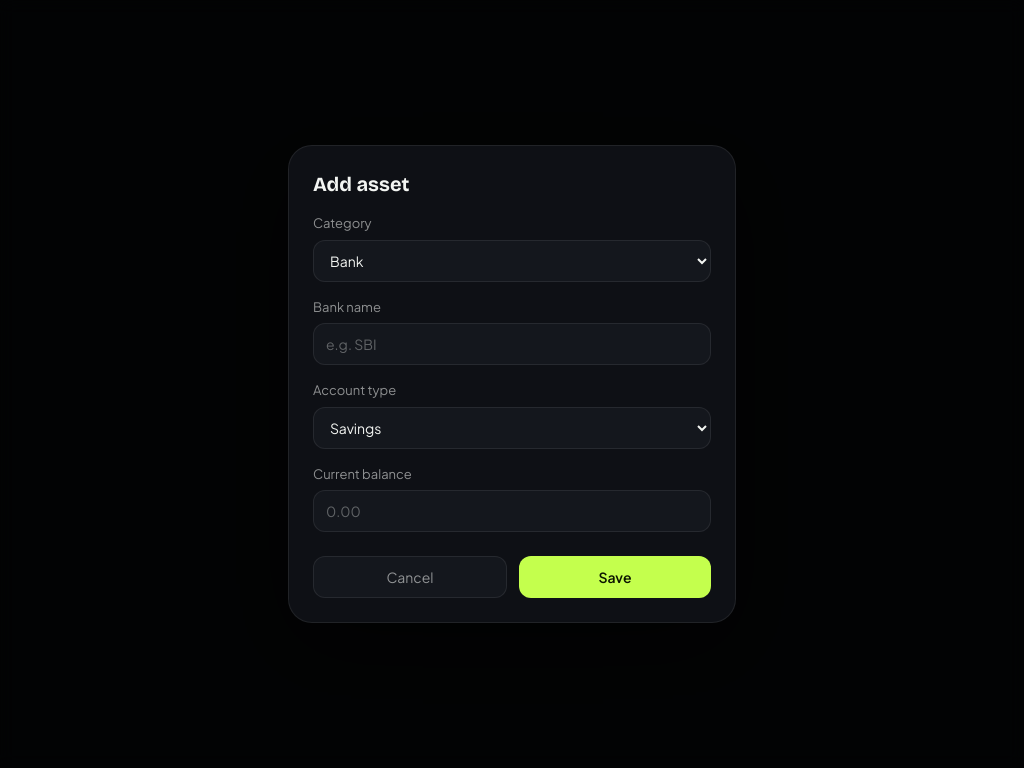
Test: AssetForm › collapses to just an amount field for cash
Select "Cash" in the dropdown showing "Bank": (512,260) [313,240,711,282]
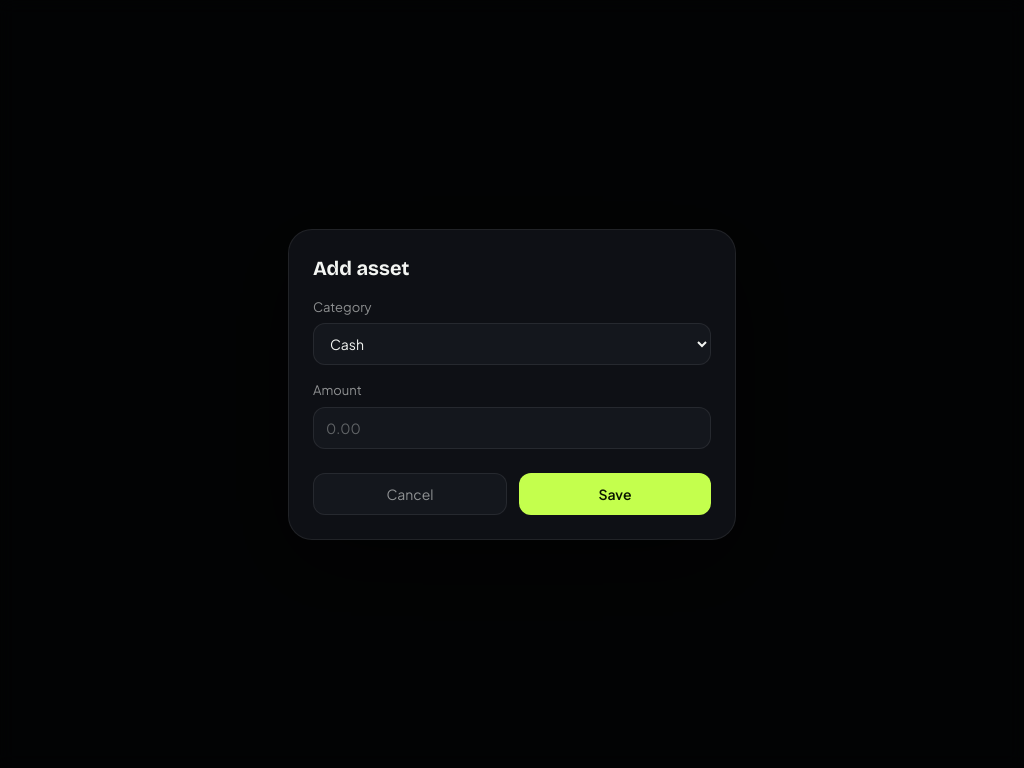
Now the text "Amount" is shown, box [313,382,362,398]
Now the text "Account type" is gone
